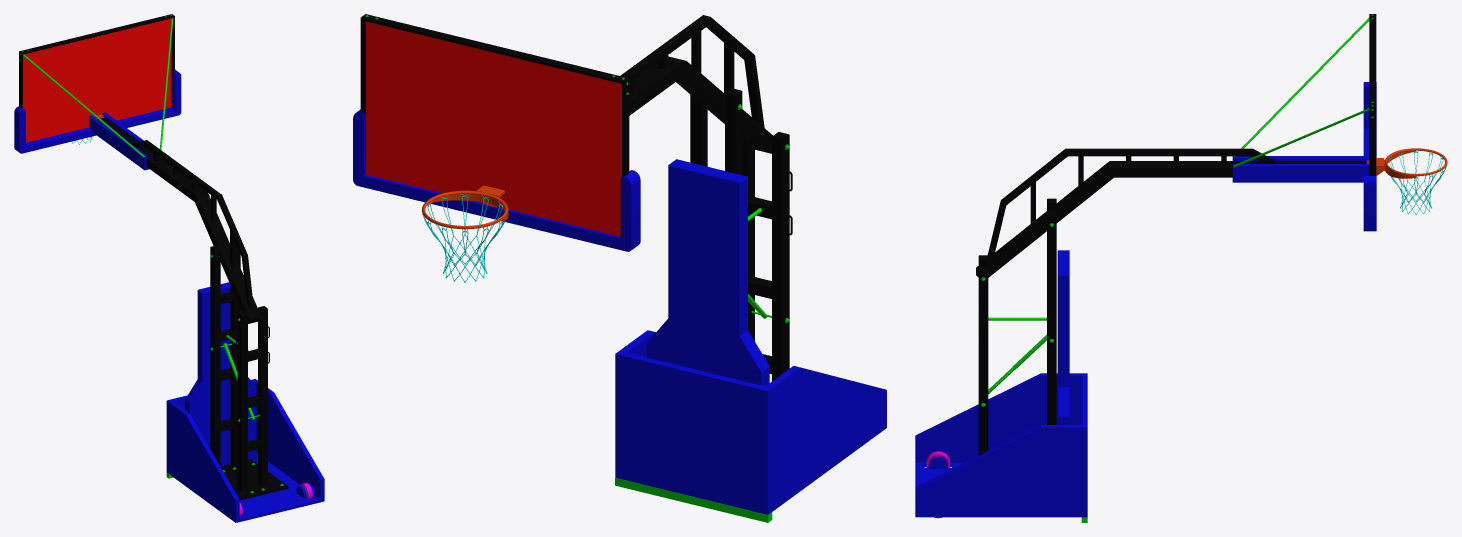
Rendered from BasketballHoop.fbx.
3 renders of one model, left to right at view 1: azimuth 30°, elevation 25°; view 2: azimuth 150°, elevation 25°; view 3: azimuth 270°, elevation 25°, orthographic. The views are drawn at different scales.
Visible parts, largest first — view 1: BasketballHoop_LOD0; view 2: BasketballHoop_LOD0; view 3: BasketballHoop_LOD0.
Boxes of the visible parts, box(x1,y1,x2,y2) form: BasketballHoop_LOD0: box(14, 14, 324, 522); BasketballHoop_LOD0: box(353, 14, 886, 522); BasketballHoop_LOD0: box(915, 14, 1447, 522).
Size of what is drawn, in the model's own units: 192 by 396 by 438.
